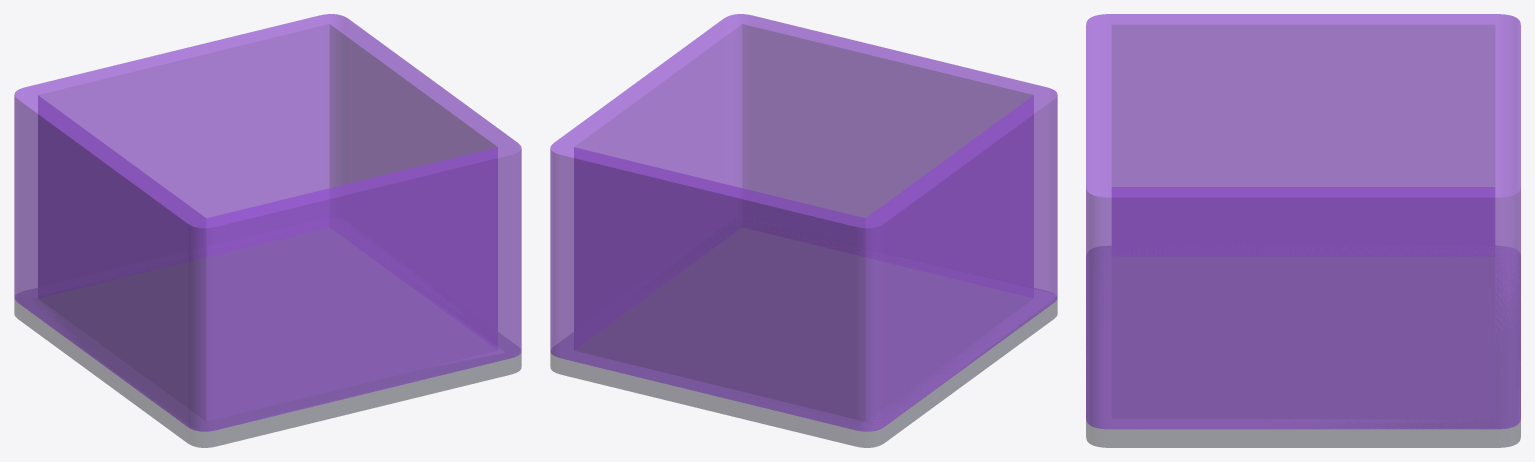
Rendered from virtual-hort.glb.
3 renders of one model, left to right at view 1: azimuth 30°, elevation 25°; view 2: azimuth 150°, elevation 25°; view 3: azimuth 270°, elevation 25°, orthographic. The views are drawn at different scales.
Size of the model in its own units: 1.7 by 1.08 by 1.7.
